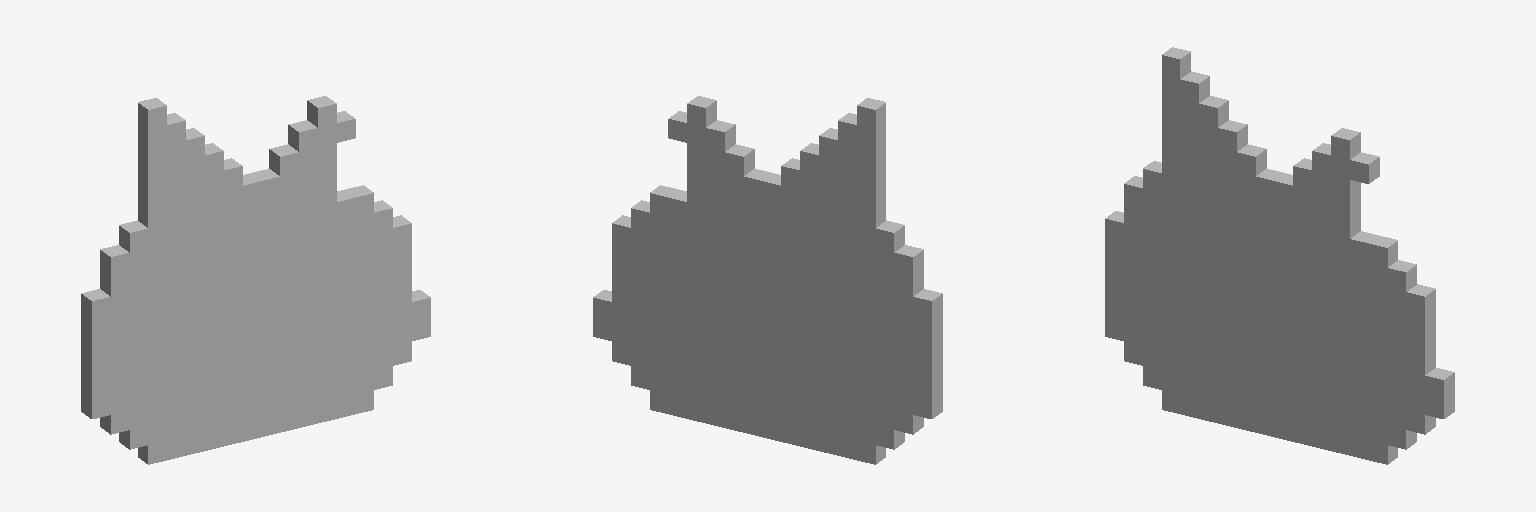
Rendered from CatHead-0-CatHead.obj.
The picture shows the model from 3 angles: view 1: azimuth 30°, elevation 25°; view 2: azimuth 150°, elevation 25°; view 3: azimuth 330°, elevation 25°; orthographic projection.
Visible parts, largest first — view 1: CatHead; view 2: CatHead; view 3: CatHead.
Part boxes in pixels (x1,y1,x2,y2): CatHead: (81, 96, 430, 464); CatHead: (593, 96, 942, 464); CatHead: (1105, 47, 1454, 464).
Bounding box in the file's own units: 1.8 × 1.8 × 0.1.